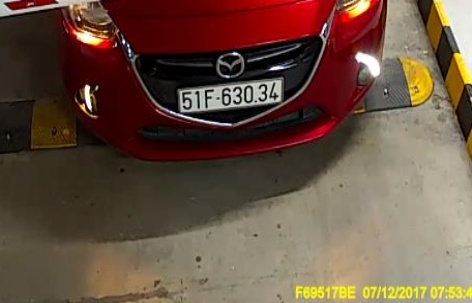plate: (172, 78, 290, 115)
